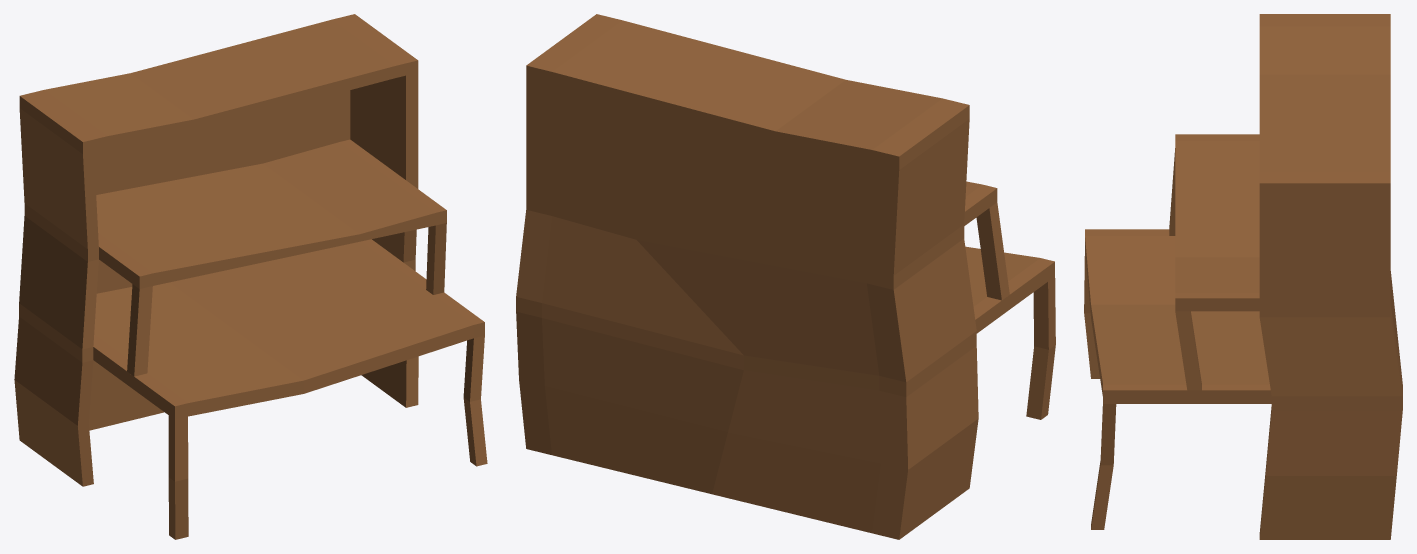
Rendered from Closet2.fbx.
3 views of the same model, side by side, from view 1: azimuth 30°, elevation 25°; view 2: azimuth 150°, elevation 25°; view 3: azimuth 270°, elevation 25° (orthographic). The views are drawn at different scales.
Parts seen in each view (by area): view 1: Cube.270; view 2: Cube.270; view 3: Cube.270.
Part boxes in pixels (x1,y1,x2,y2): Cube.270: (14, 14, 487, 539); Cube.270: (516, 14, 1055, 539); Cube.270: (1084, 14, 1402, 539).
Size of the model in its own units: 630 by 600 by 486.
